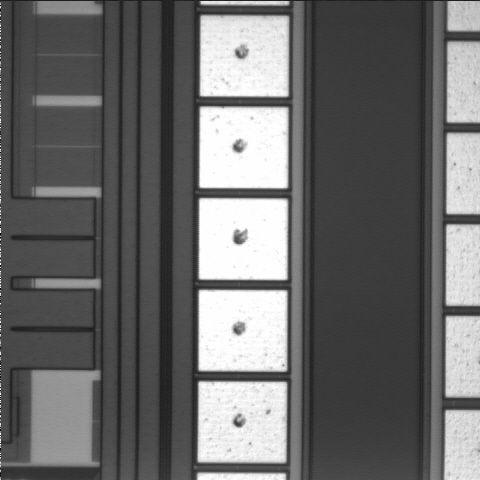pad: (199, 198, 288, 280), (200, 16, 289, 97), (199, 107, 288, 188), (198, 382, 287, 463), (199, 290, 287, 371)
